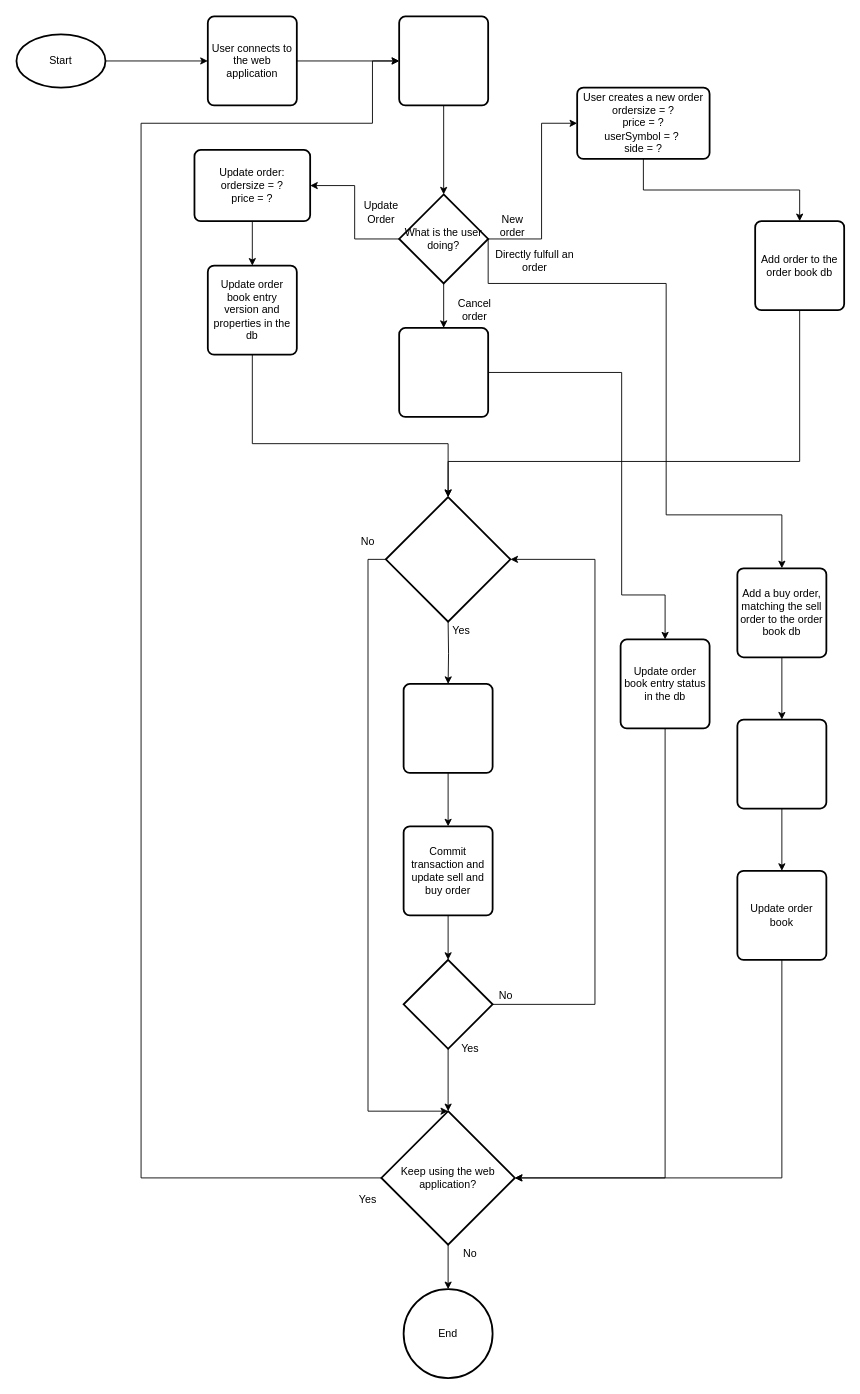
Some shapes in this 860 by 1394 pixel diagram are drawn without their labels. Here are the shapes that lost their labels. From the top down, the box of each, then its label:
(398, 15, 489, 106): Display ticker, graphs and action menu
(398, 327, 489, 417): Cancel order: change status to cancelled
(384, 496, 511, 622): Is there a matching order for a trade?
(402, 683, 493, 773): Create a Trade, matching the sell and buy offers
(736, 718, 827, 809): Create a matching trade and commit transaction
(402, 959, 493, 1049): Has the order been fully fulfilled?
